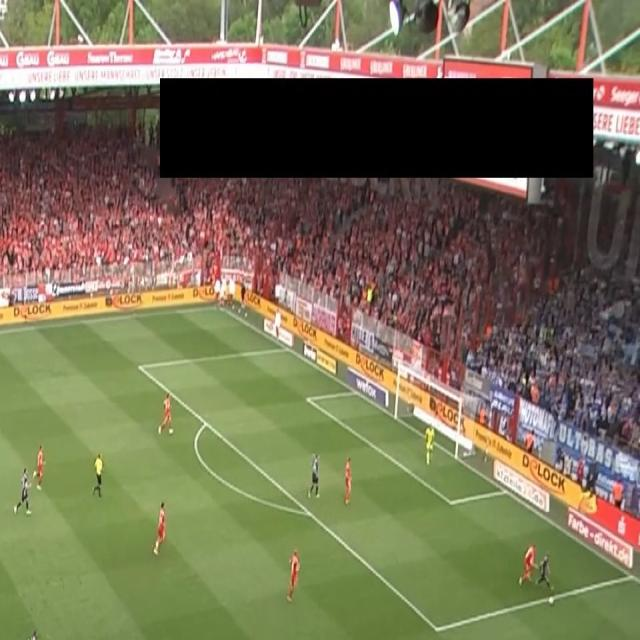ball: (548, 595, 555, 608)
